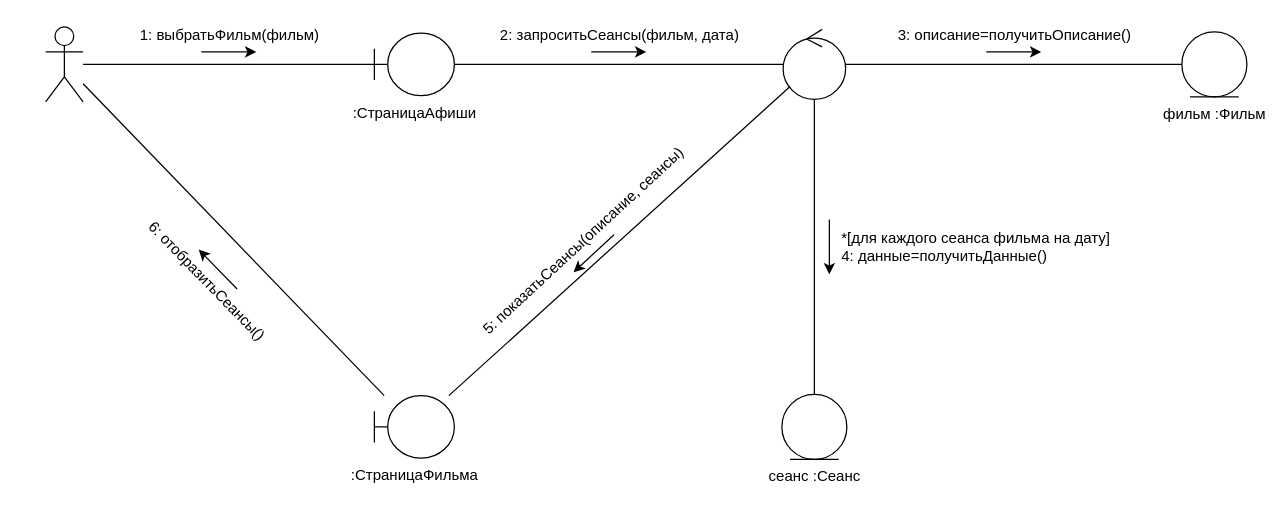
Image size: 1288x506. Some labels were removed from this diagram. Here are the shapes that lost their labels. From the top down, the centre of each, then its label:
point (63, 64): :Покупатель
point (814, 63): :КонтроллерАфиши
